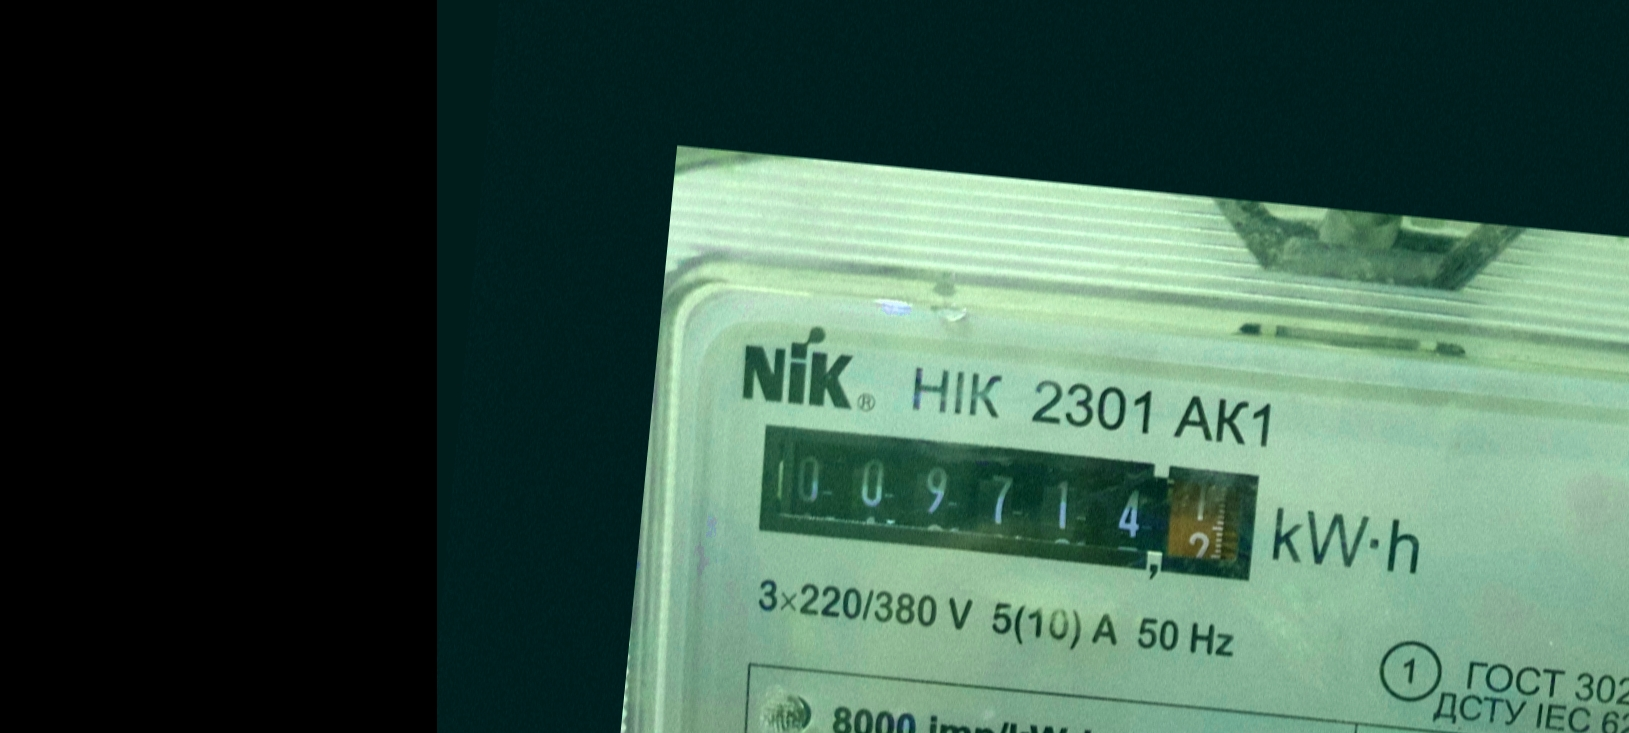0: (793, 451, 827, 508), (858, 454, 889, 510)
1: (1050, 476, 1078, 533), (1193, 481, 1211, 524)
2: (1187, 528, 1213, 561)
4: (1115, 486, 1148, 543)
7: (986, 473, 1017, 528)
9: (920, 463, 953, 518)
screen: (740, 409, 1279, 601)
